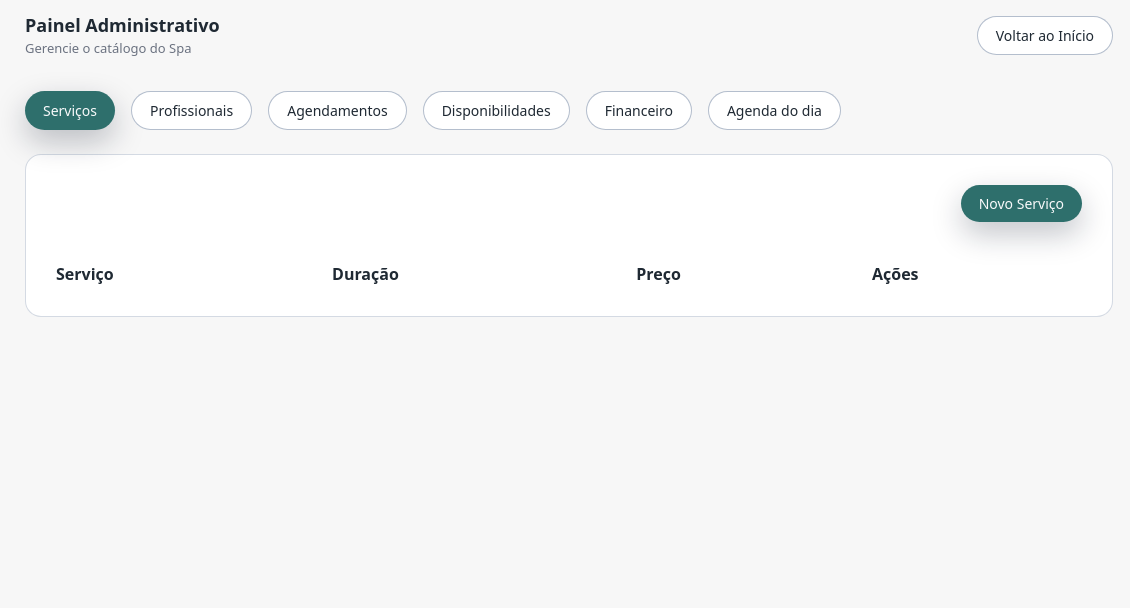
blocks_tab_shows_empty › blocks_tab_shows_empty
Click the button "Disponibilidades" at (496, 110), box [423,90,570,130]
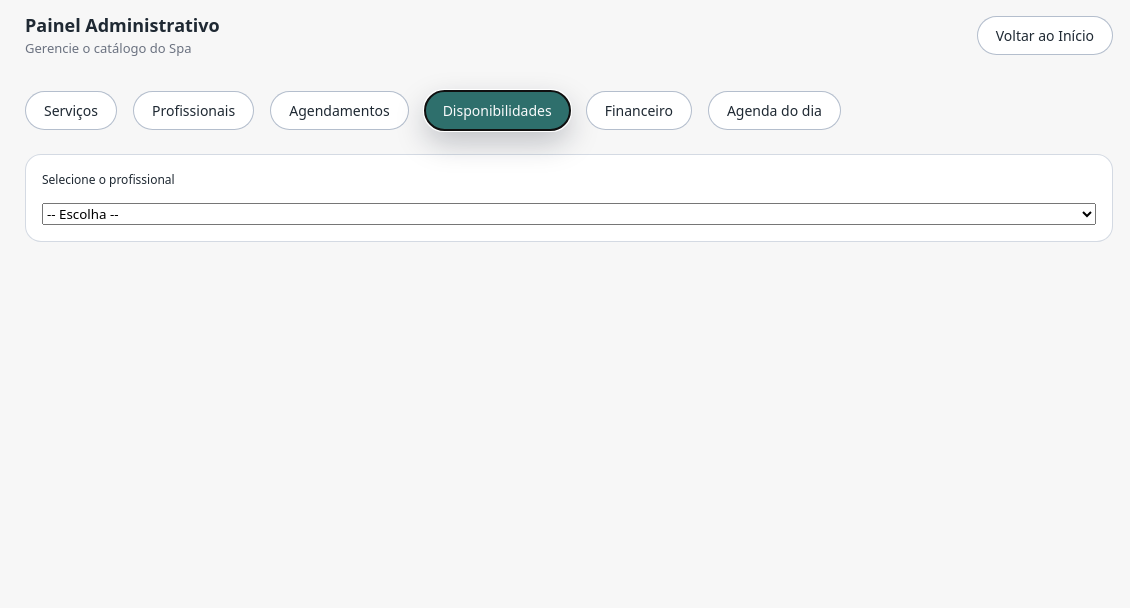
Select "Ana" in the dropdown at (569, 214), box [42,202,1096,224]
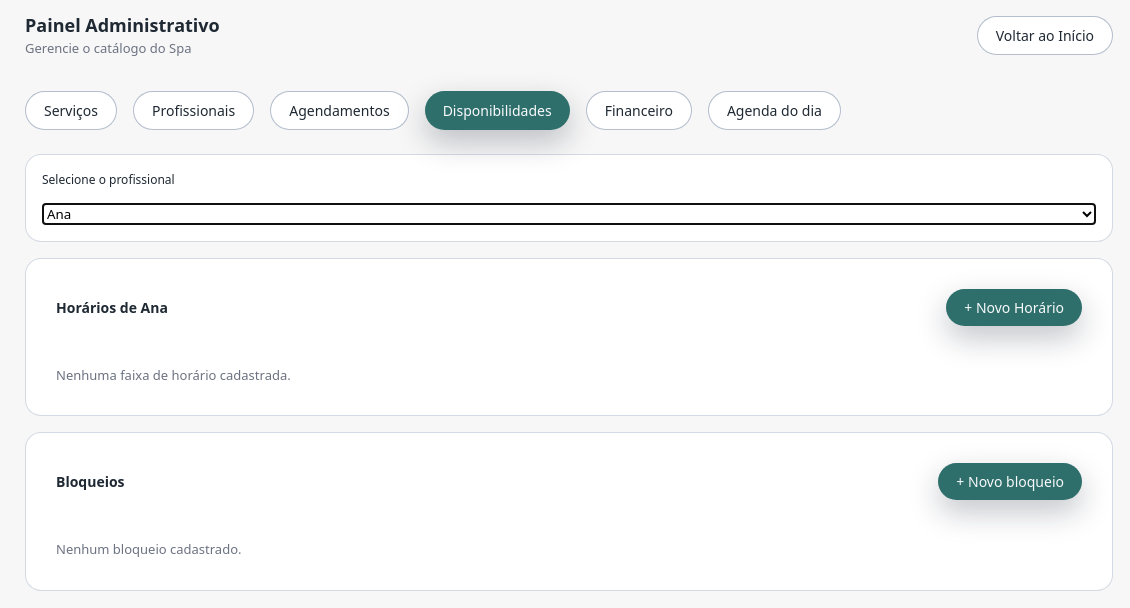
Now the text "Nenhum bloqueio cadastrado." is shown, box [56,540,242,558]
